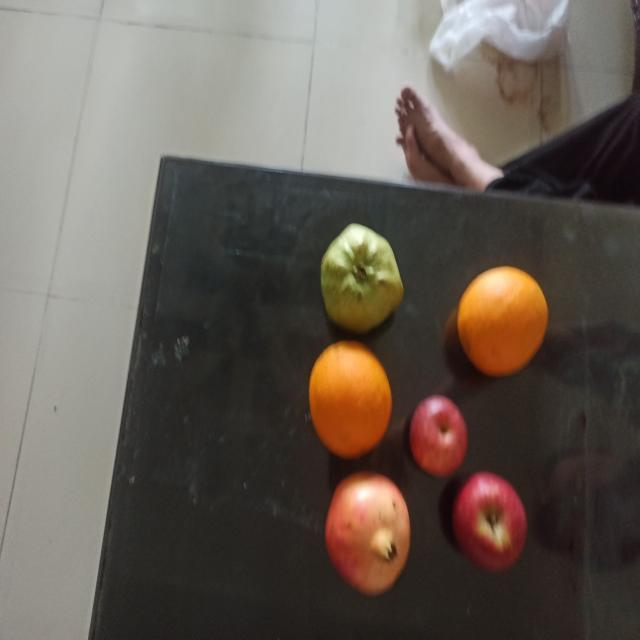apple: (452, 470, 528, 572), (408, 394, 469, 476)
